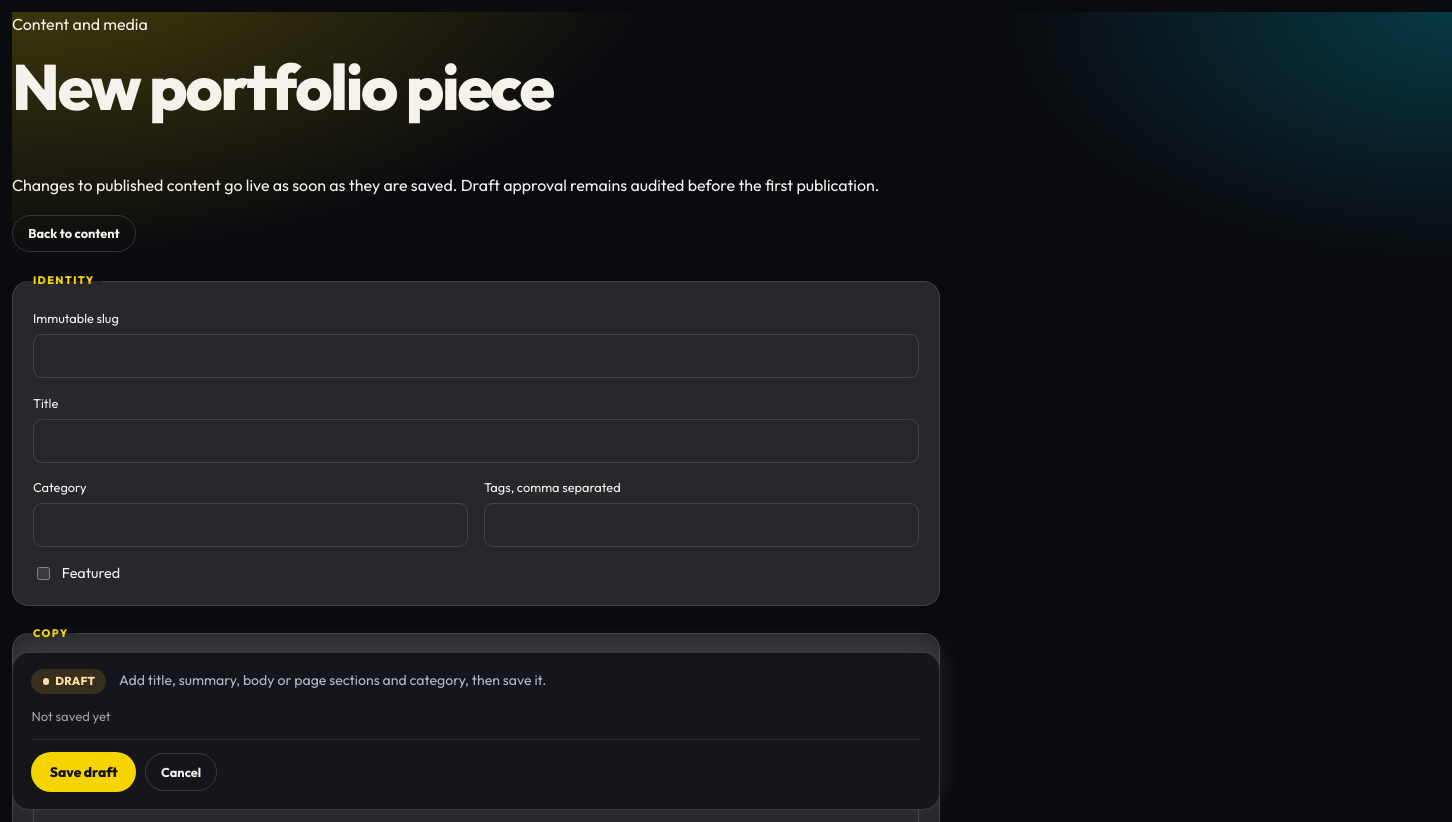
Test: takes an immutable slug on creation and posts to the collection
Type "approved-work" into the field labelled "Immutable slug" at point(476, 356), box [33,334,919,378]
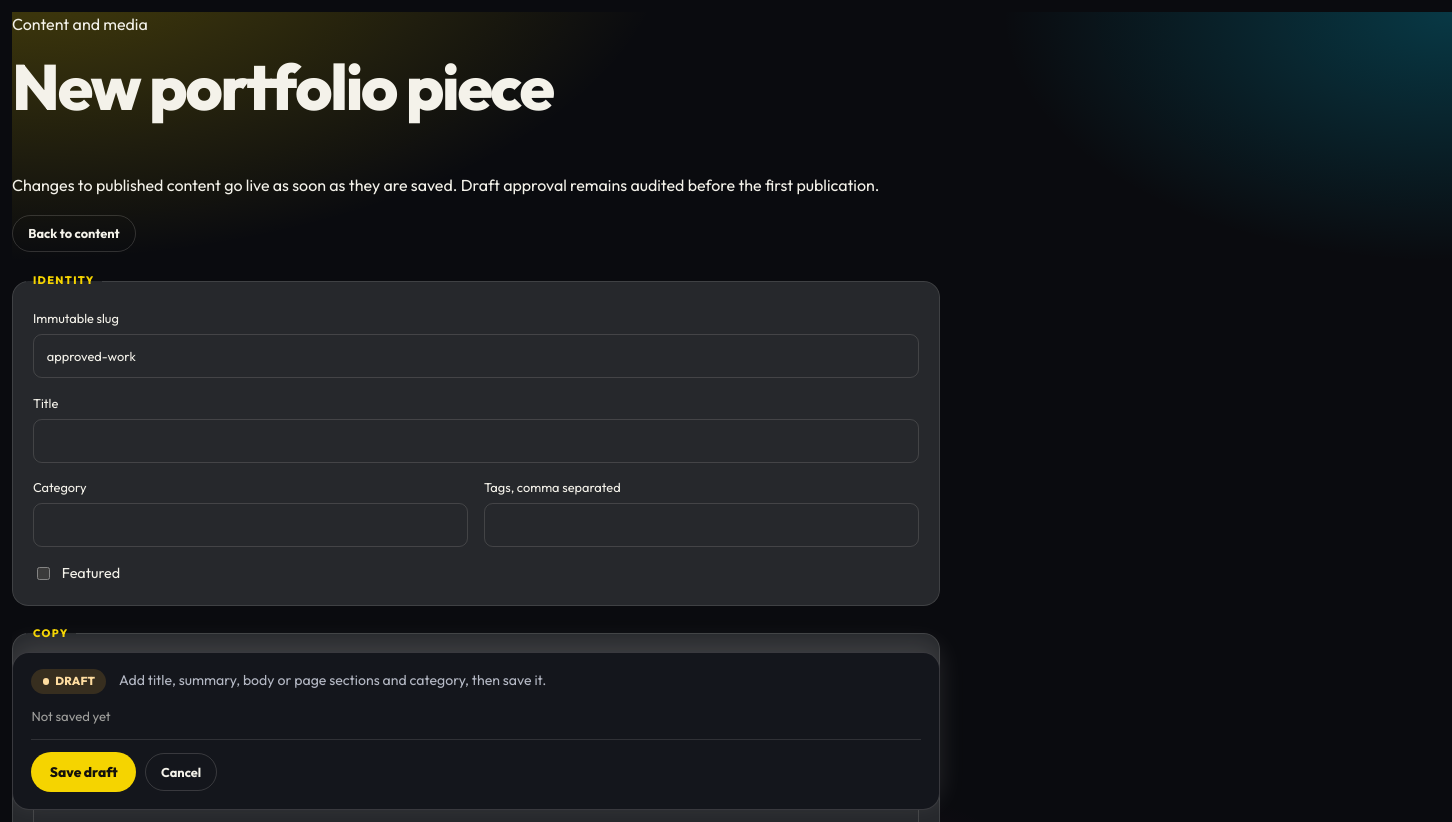
Type "Approved work" into the field labelled "Title" at point(476, 441), box [33,419,919,463]
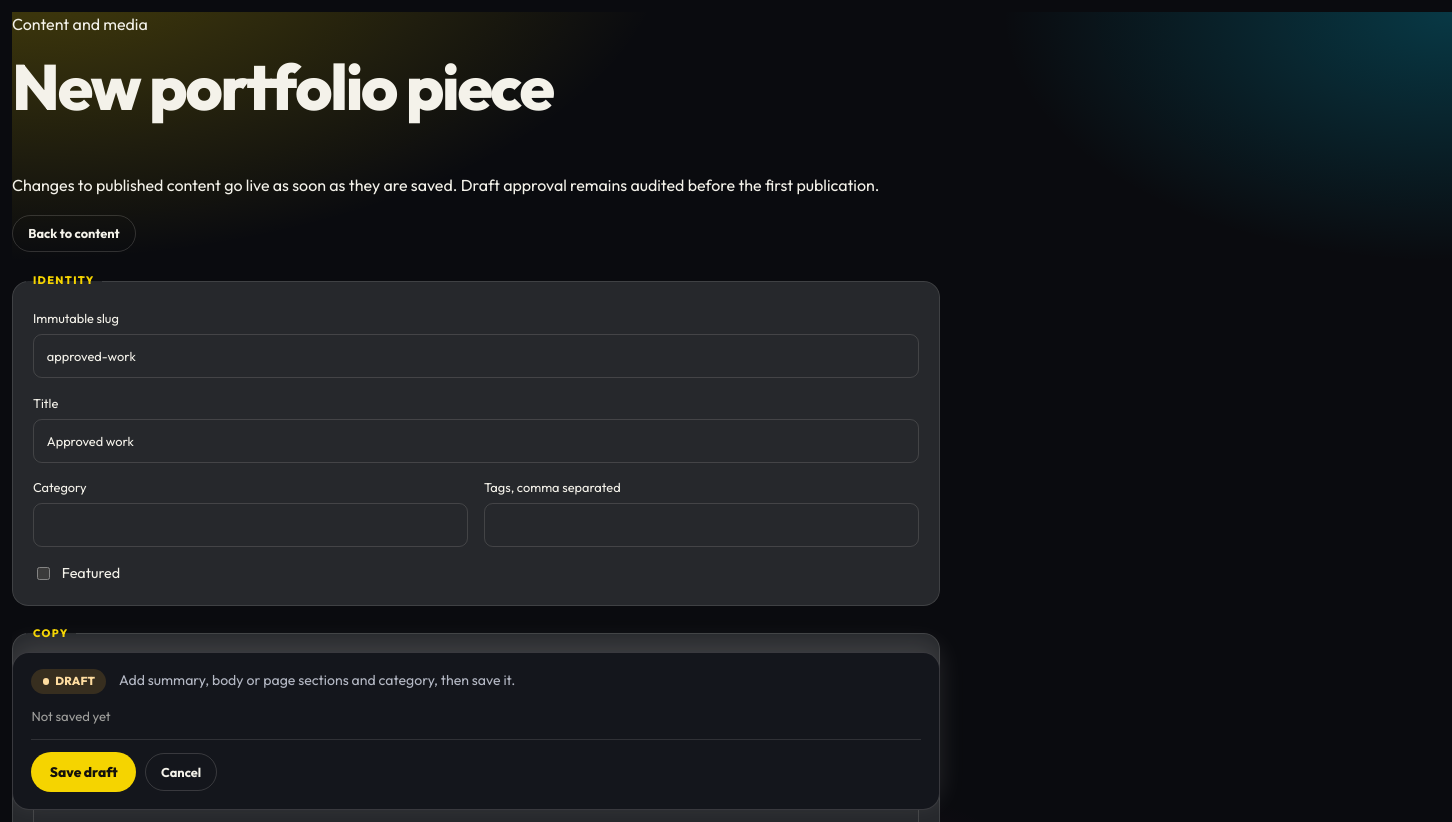
Type "Live arts" into the field labelled "Category" at point(250, 525), box [33,503,468,547]
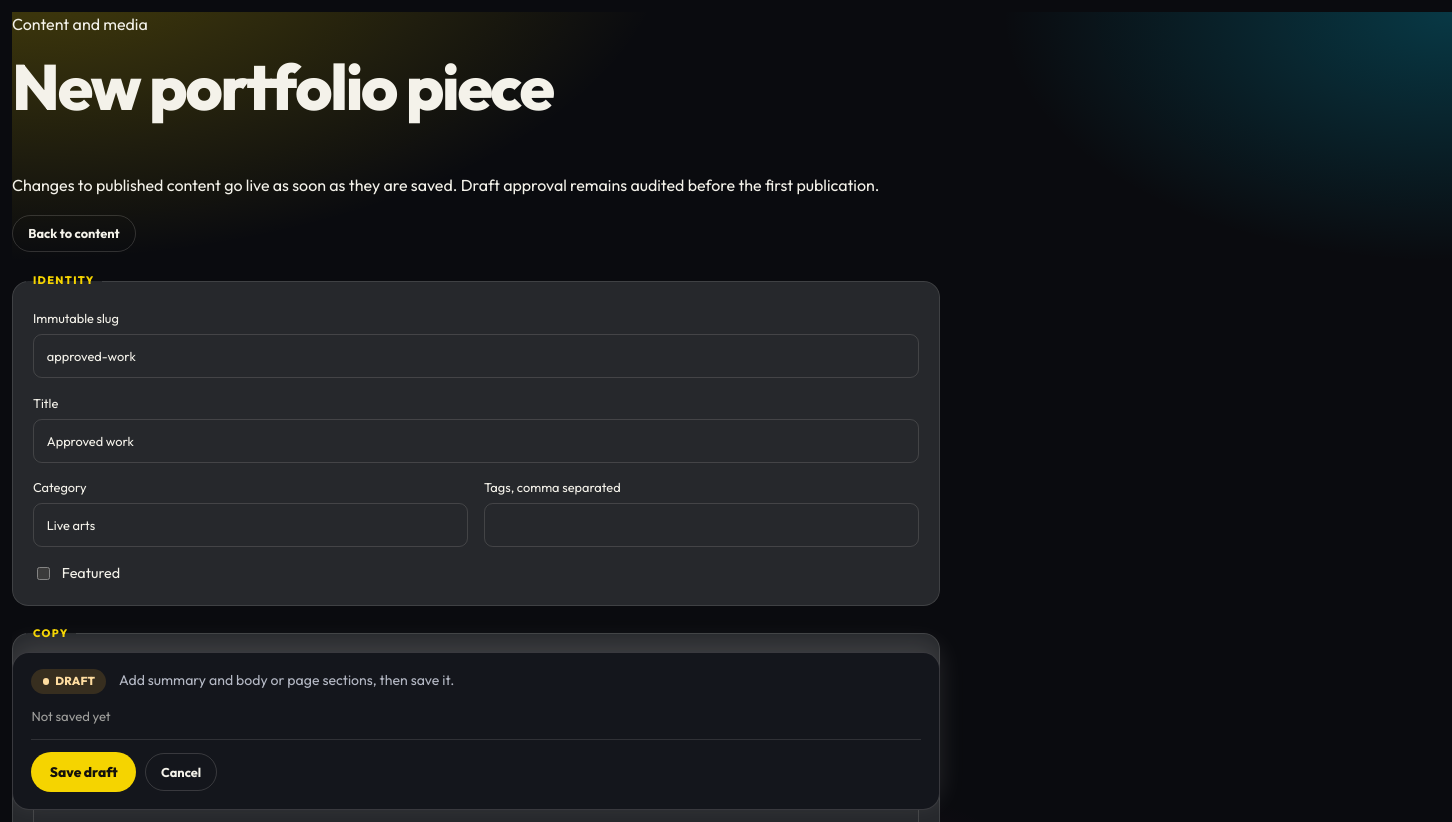
Expected: the text "Not saved yet" is shown, [31,708,111,724]
Click the button "Save draft" at point(84, 772), box [31,752,136,792]
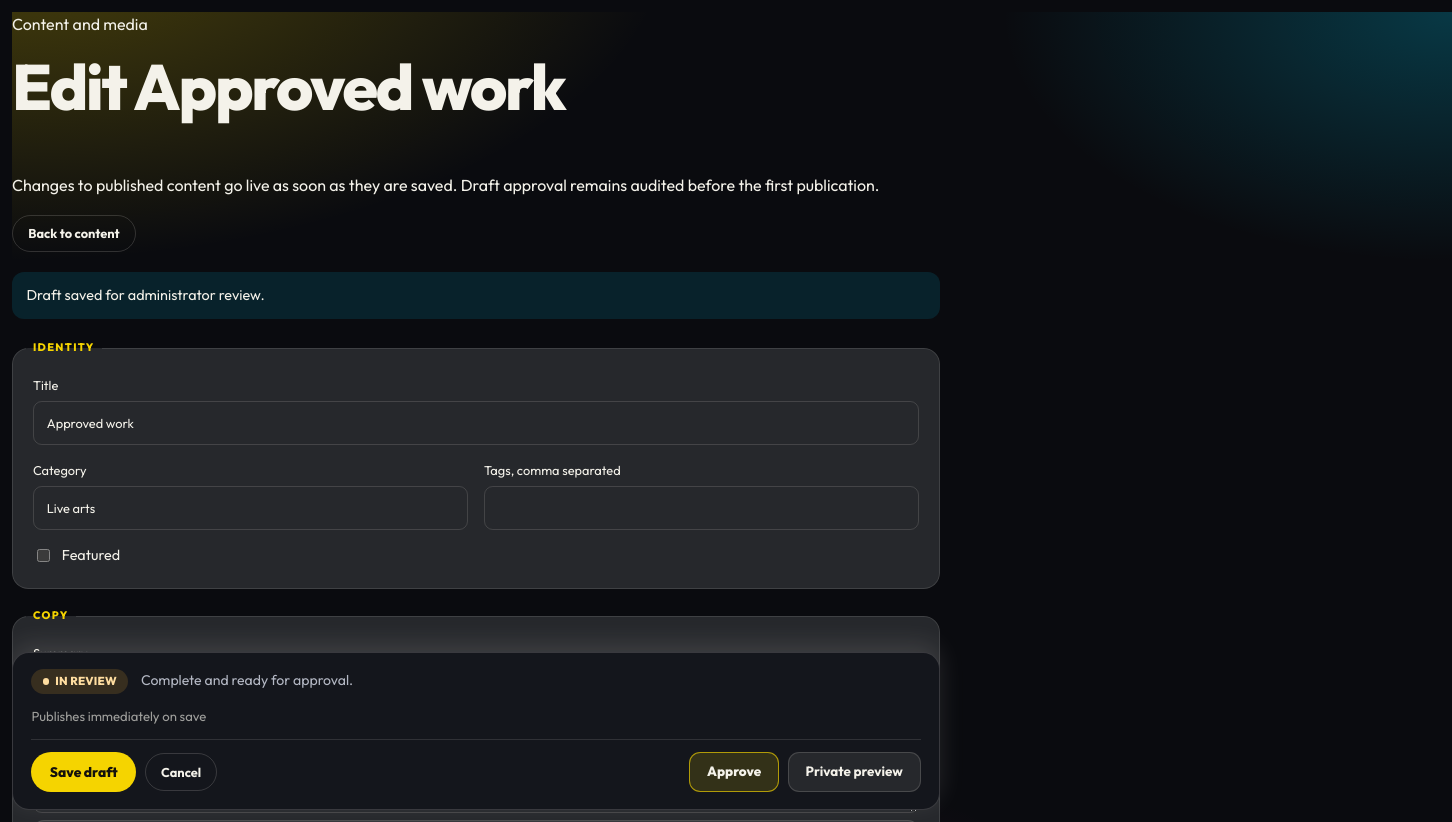
Now the text "Draft saved for administrator review." is shown, box [12,272,940,319]
Now the button "Approve" is enabled, box [689,752,779,792]
